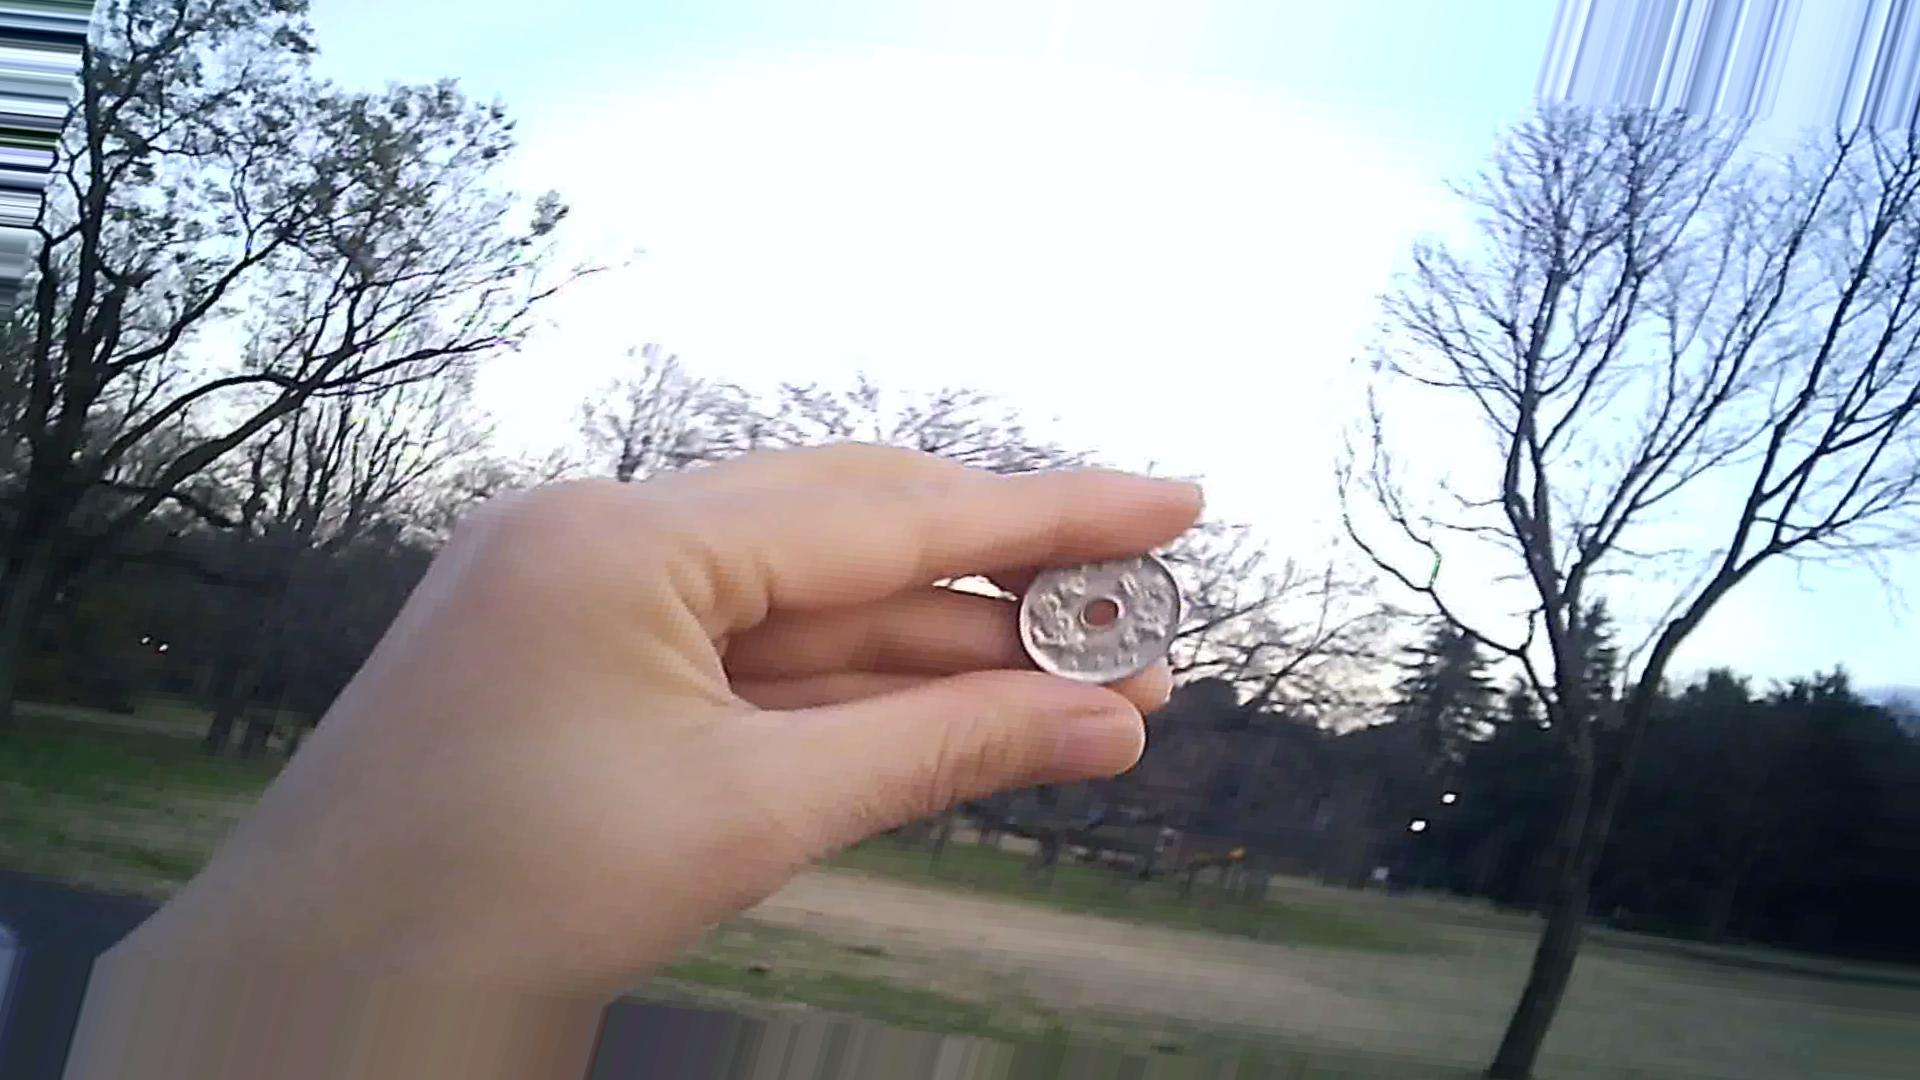50 Yen: (1010, 527, 1188, 690)
